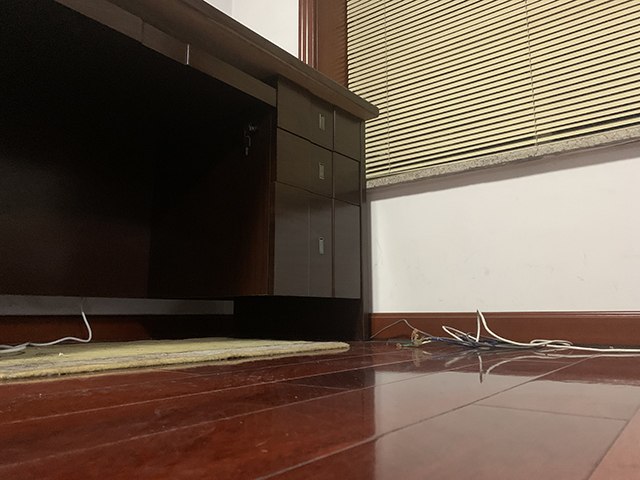cabinet: (1, 1, 382, 343)
carpet: (1, 333, 351, 382)
wire: (370, 310, 640, 355), (1, 296, 94, 357)
